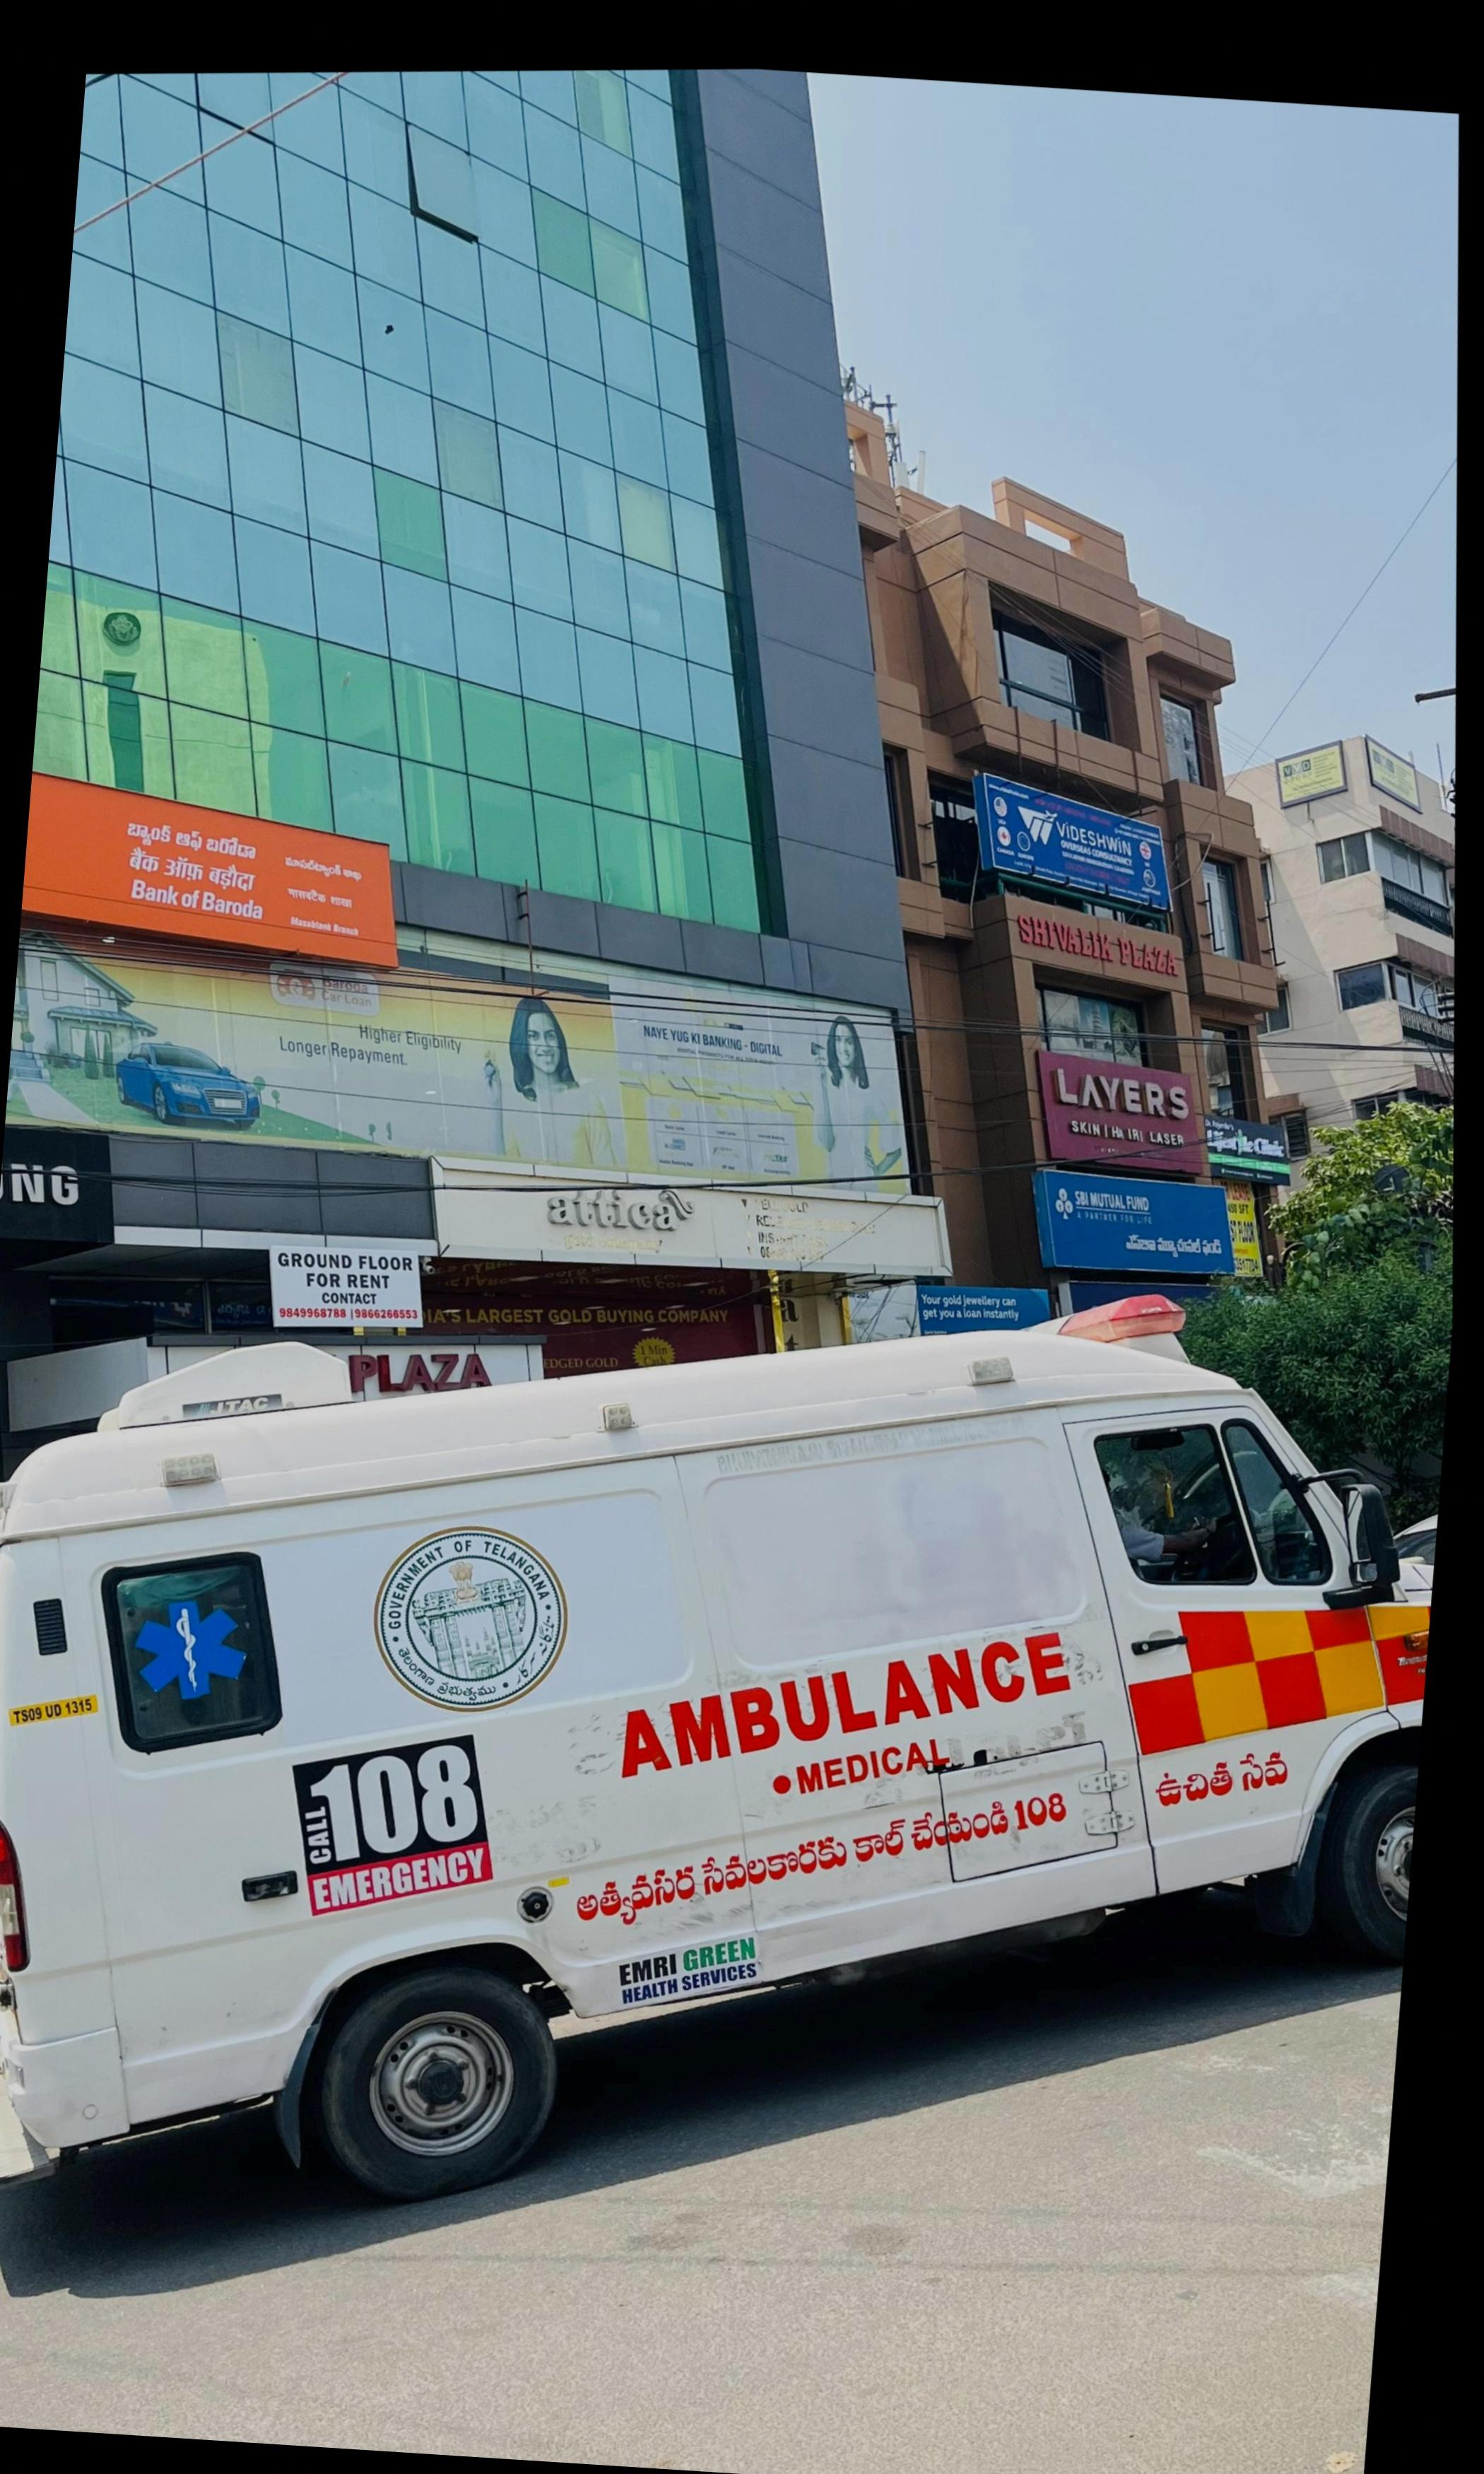ambulance: (0, 1324, 1431, 2205)
